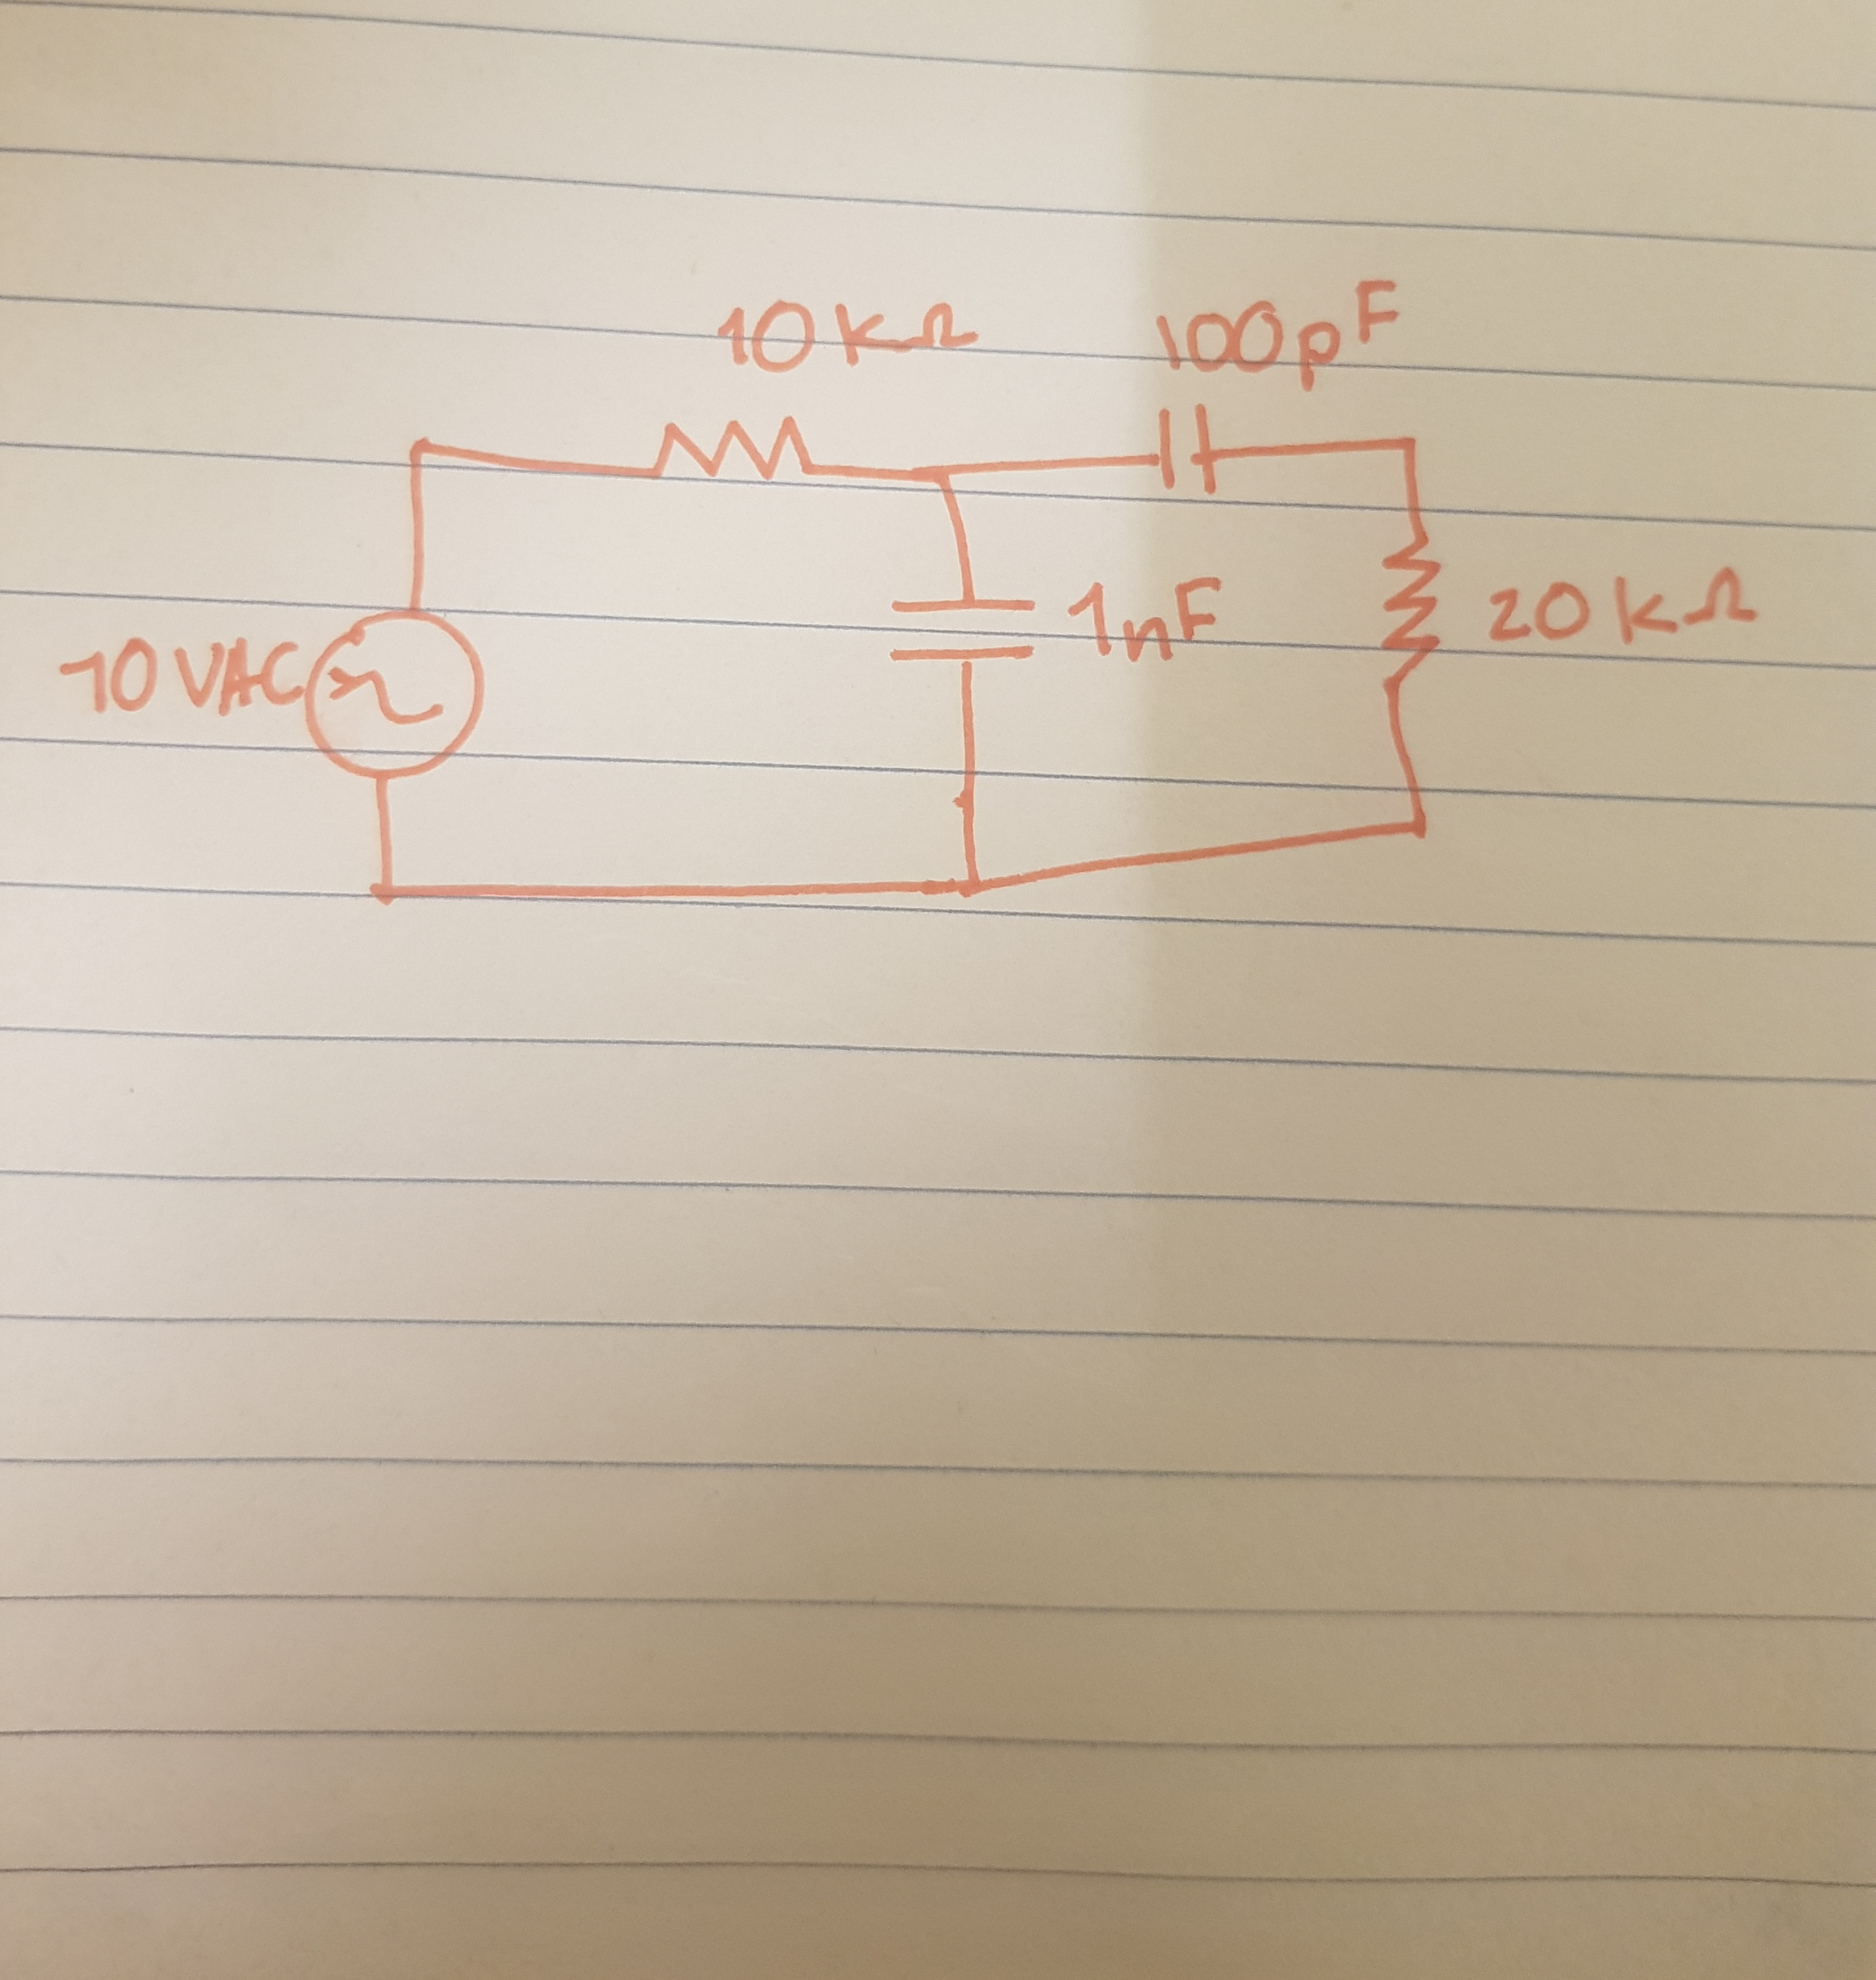capacitor.unpolarized: (880, 578, 1053, 681), (1137, 381, 1232, 513)
junction: (349, 860, 420, 929), (390, 418, 451, 492), (942, 859, 1000, 926), (917, 451, 975, 508), (1388, 806, 1444, 855), (1382, 423, 1432, 469)
resistor: (640, 407, 829, 499), (1363, 538, 1448, 689)
text: (1139, 268, 1409, 393), (1478, 557, 1763, 647), (712, 296, 984, 383), (55, 644, 317, 725), (1065, 573, 1239, 668)
voltage.dc: (296, 608, 490, 779)
